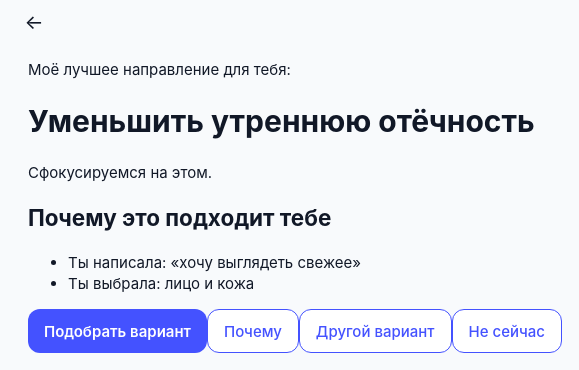
Test: действия карточки › «Почему» раскрывает кадр C04.3 теми же причинами
The width and height of the screenshot is (579, 370).
Check: the text "Моё лучшее направление для тебя:" is shown, box [28,60,291,79]
Click the button "Почему" at (253, 331), box [207,309,299,353]
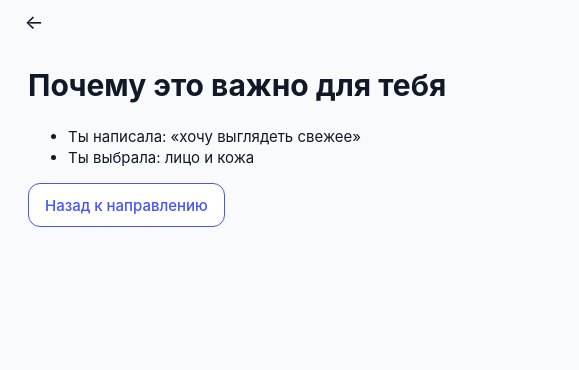
Check: the list item "Ты написала: «хочу выглядеть свежее»" is shown, box [68,127,361,146]
Check: the heading "Почему это важно для тебя" is shown, box [28,67,446,103]
